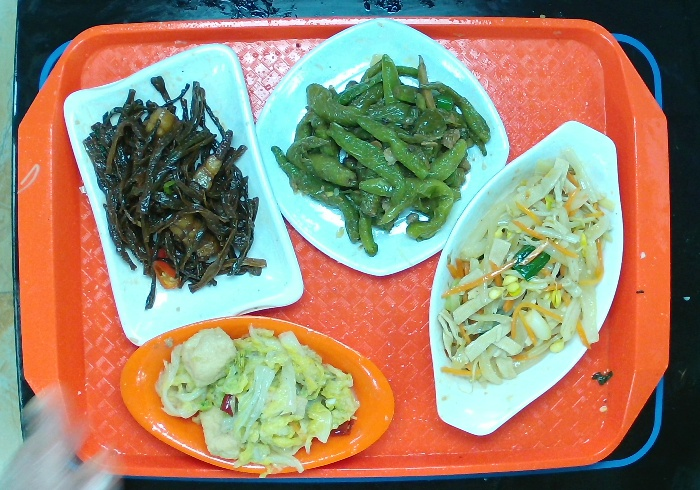RJxy-Ju_Huang_Tuo_Yuan: (116, 312, 400, 478)
RJxy-Si_Fang_Ao_Bian_Wan: (63, 36, 308, 351)
RJxy-Si_Fang_Die: (251, 19, 514, 283)
RJxy-Yu_Pan: (423, 114, 625, 437)
